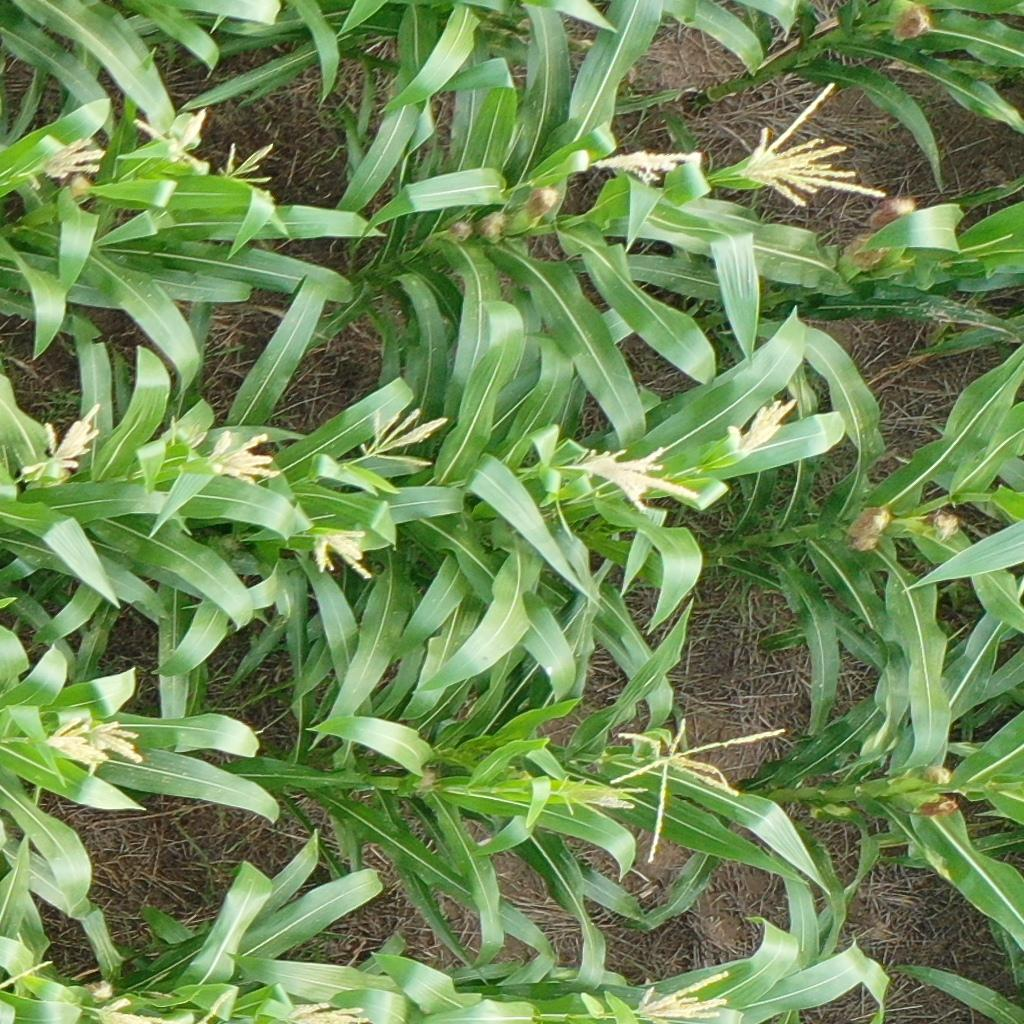Tassel: (604, 718, 790, 862), (739, 83, 886, 214), (576, 445, 704, 515), (21, 402, 104, 484), (627, 967, 732, 1024), (132, 107, 210, 175), (356, 406, 449, 462), (201, 428, 280, 492), (20, 136, 110, 191), (559, 773, 652, 823), (722, 397, 796, 454), (308, 528, 375, 585), (583, 148, 691, 183), (41, 715, 109, 766), (221, 138, 280, 194), (89, 712, 144, 760), (273, 998, 368, 1024), (91, 996, 162, 1024), (168, 417, 207, 453)
